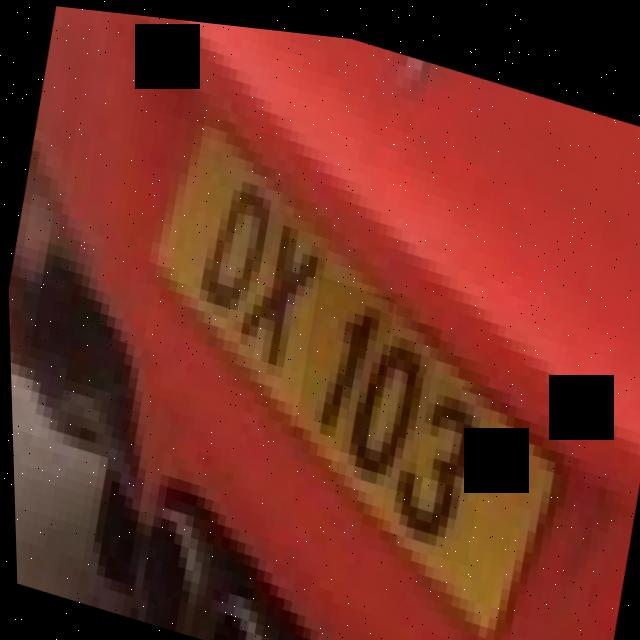0: (337, 309, 433, 479)
1: (295, 280, 390, 442)
3: (379, 369, 487, 550)
D: (186, 166, 279, 319)
X: (229, 205, 326, 376)
